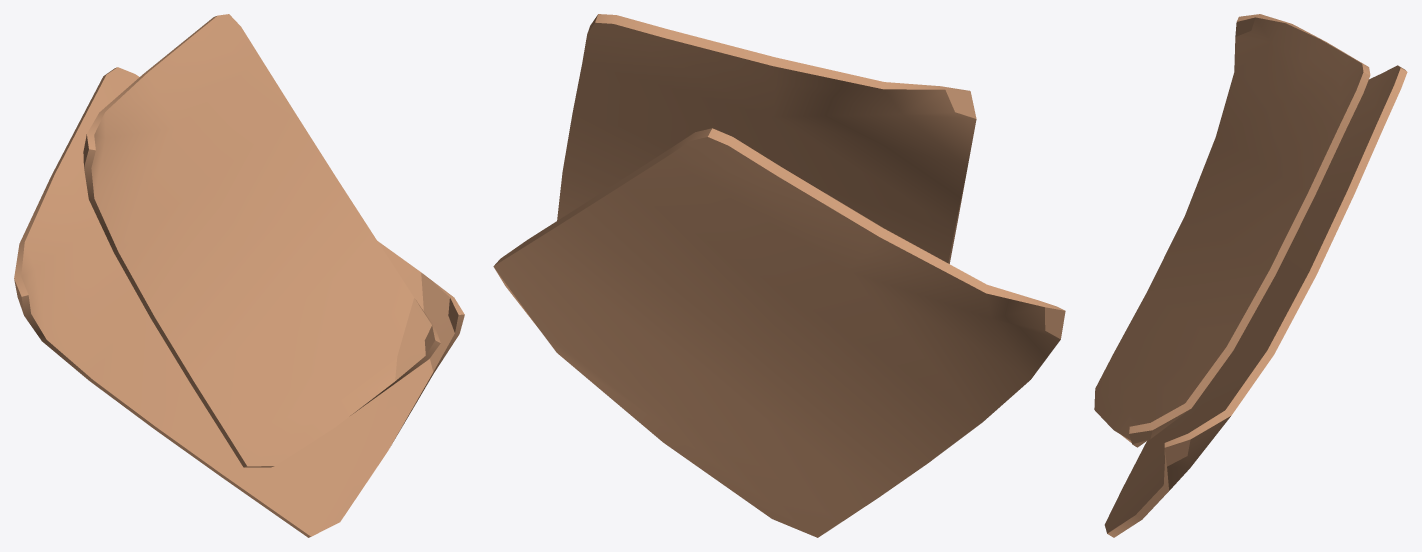
File: Paper.glb
3 renders of one model, left to right at view 1: azimuth 30°, elevation 25°; view 2: azimuth 150°, elevation 25°; view 3: azimuth 270°, elevation 25°, orthographic. The views are drawn at different scales.
Visible parts, largest first — view 1: UI_Paper; view 2: UI_Paper; view 3: UI_Paper.
Part boxes in pixels (<box>): UI_Paper: <box>14,14,464,537</box>; UI_Paper: <box>493,14,1065,537</box>; UI_Paper: <box>1094,14,1407,537</box>.
Size of the model in its own units: 0.5096 by 0.5156 by 0.3065.
1 material, 1 textured.
